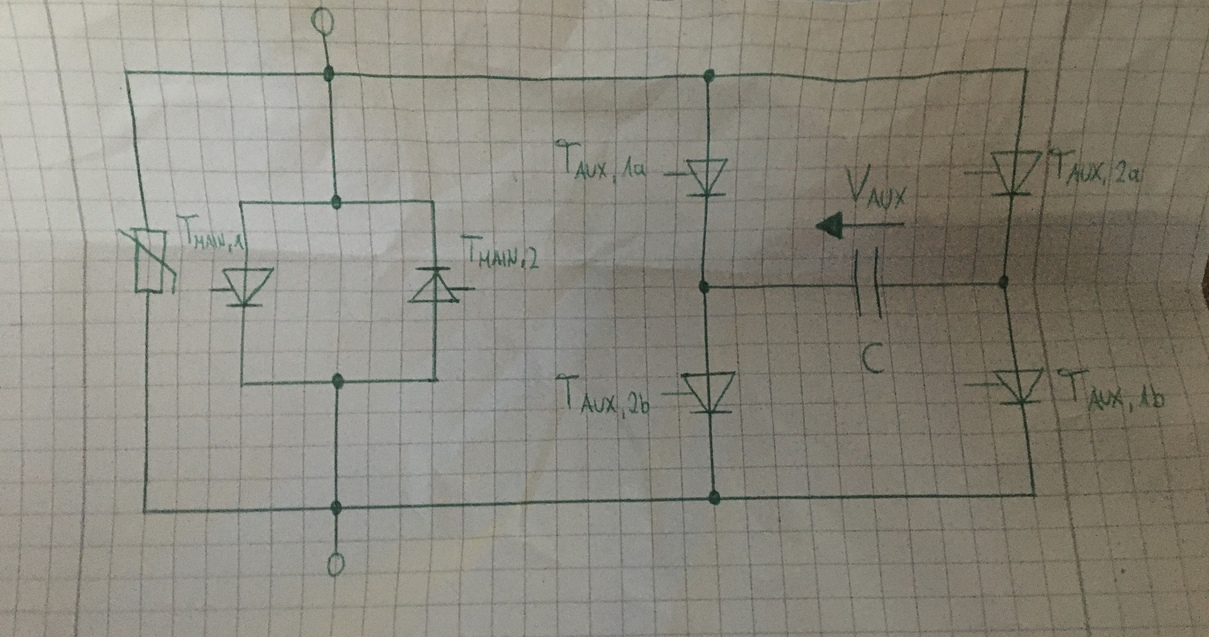capacitor.unpolarized: (848, 245, 890, 321)
junction: (320, 64, 338, 84), (706, 488, 723, 507), (329, 192, 345, 212), (328, 498, 344, 518), (330, 371, 346, 391), (702, 66, 716, 86), (697, 278, 713, 295), (996, 273, 1011, 291), (427, 372, 442, 387), (1027, 485, 1040, 502), (1019, 63, 1032, 77), (139, 504, 152, 518), (121, 66, 134, 79), (235, 198, 249, 210), (426, 196, 438, 209), (237, 379, 250, 391)
terminal: (309, 4, 338, 39), (324, 550, 351, 579)
text: (1054, 364, 1167, 416), (553, 371, 653, 422), (552, 137, 648, 186), (1046, 144, 1143, 187), (842, 161, 910, 212), (458, 231, 542, 272), (174, 210, 245, 254), (859, 339, 890, 377)
thyristor: (987, 148, 1045, 199), (678, 369, 738, 418), (220, 264, 277, 312), (405, 263, 465, 306), (990, 366, 1048, 408), (681, 156, 733, 200)
varistor: (113, 223, 181, 298)
